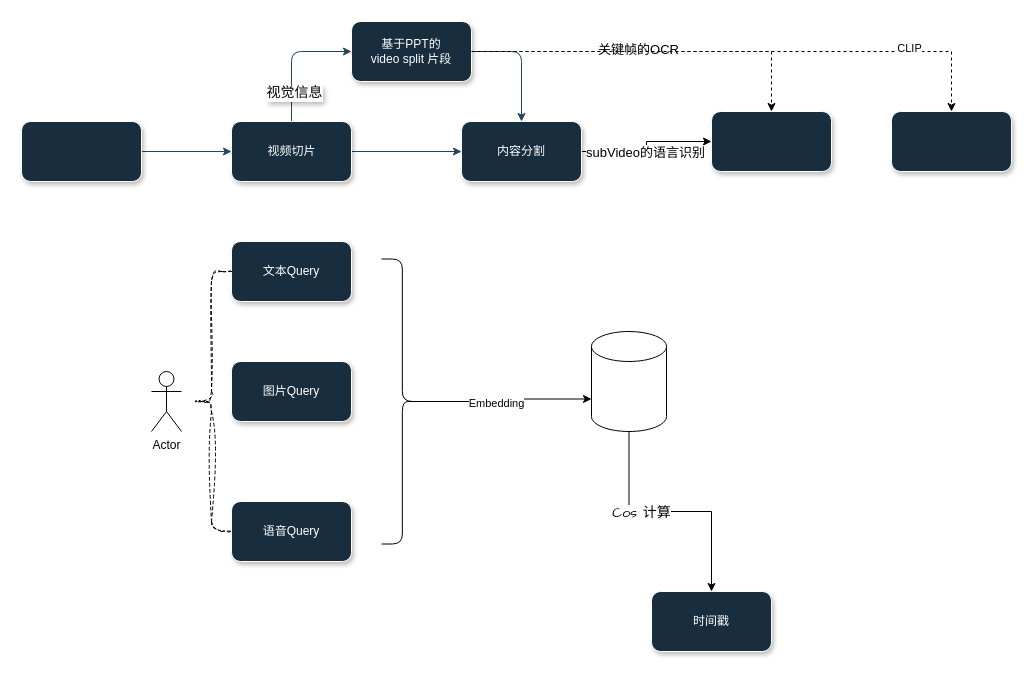
The diagram is 1035 pixels wide and 676 high, and some of its shapes have lost their labels. Here are the shapes that lost their labels. From the top down, the centre of each, then its label:
pixel 82 152: 视频
pixel 772 142: 文本Embedding
pixel 952 142: 图片Embedding
pixel 628 381: Vector DB
